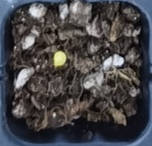chilli seed: (52, 50, 66, 67)
